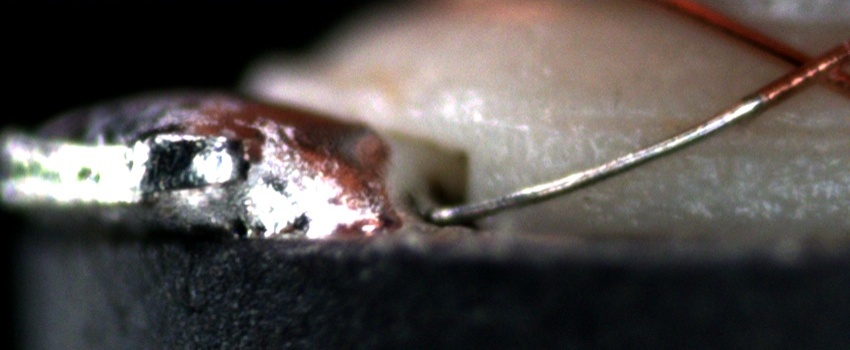CL: (766, 38, 844, 99)
DL: (551, 99, 850, 159)
TS: (432, 91, 764, 222)
